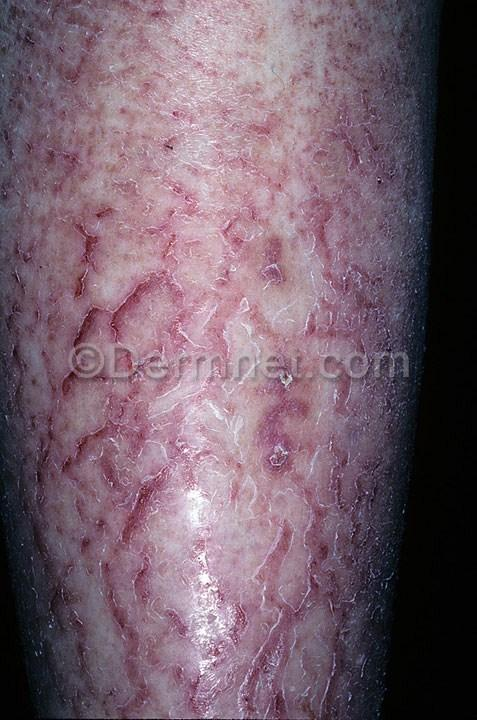Eczema: (181, 289, 298, 428), (10, 353, 108, 514), (60, 544, 167, 691), (166, 533, 272, 671), (252, 425, 325, 606), (296, 600, 397, 720), (298, 296, 375, 445), (198, 163, 298, 271), (6, 249, 102, 350), (120, 186, 210, 291), (115, 75, 203, 181), (283, 66, 359, 188), (88, 414, 151, 558), (325, 445, 392, 578), (146, 418, 215, 541), (110, 301, 185, 414), (301, 191, 375, 305), (365, 72, 433, 187), (375, 294, 430, 436), (3, 550, 55, 700), (0, 175, 113, 240), (198, 66, 279, 155), (11, 85, 110, 154), (25, 8, 123, 70), (382, 194, 438, 299), (178, 4, 266, 68), (380, 436, 423, 565), (252, 661, 360, 711), (278, 4, 372, 61), (146, 652, 245, 702), (360, 5, 430, 68), (321, 569, 419, 613), (59, 676, 153, 720), (118, 10, 181, 69), (19, 514, 92, 551), (165, 701, 266, 720)
